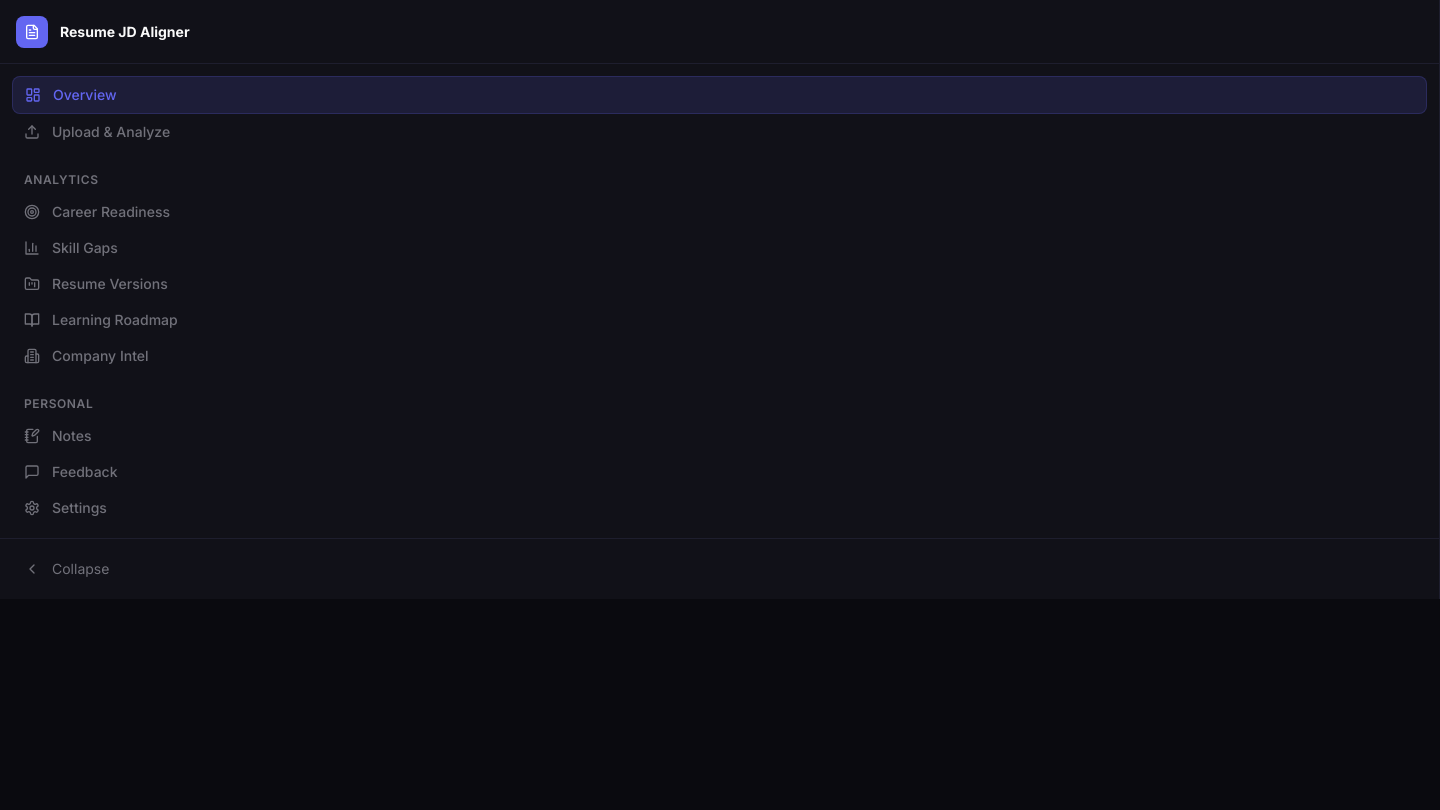
Scenario: Sidebar › expands again on a second click
Click the button "Collapse".
click(81, 568)  # box [12, 551, 1427, 587]
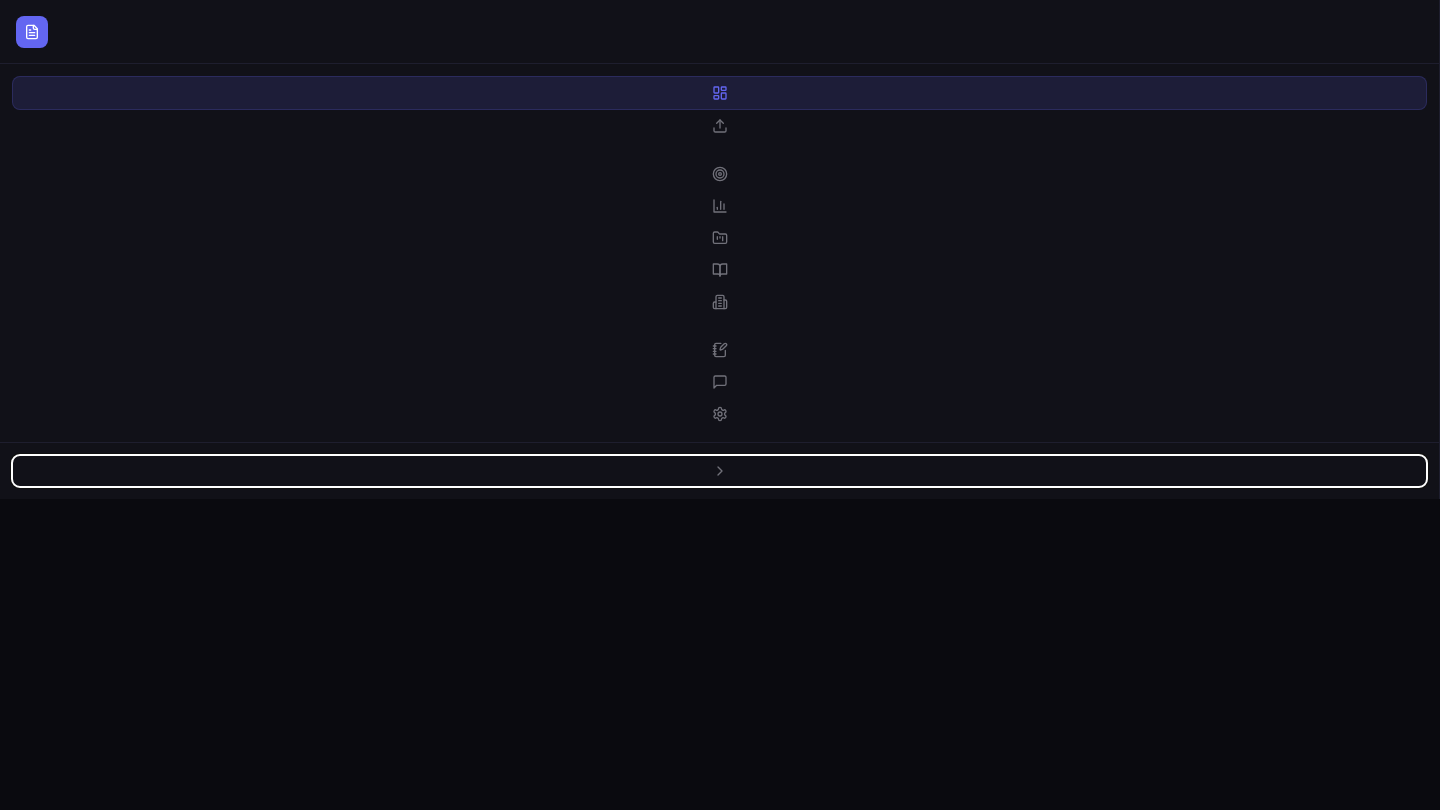
Click the button.
click(720, 471)  # box [12, 455, 1427, 487]
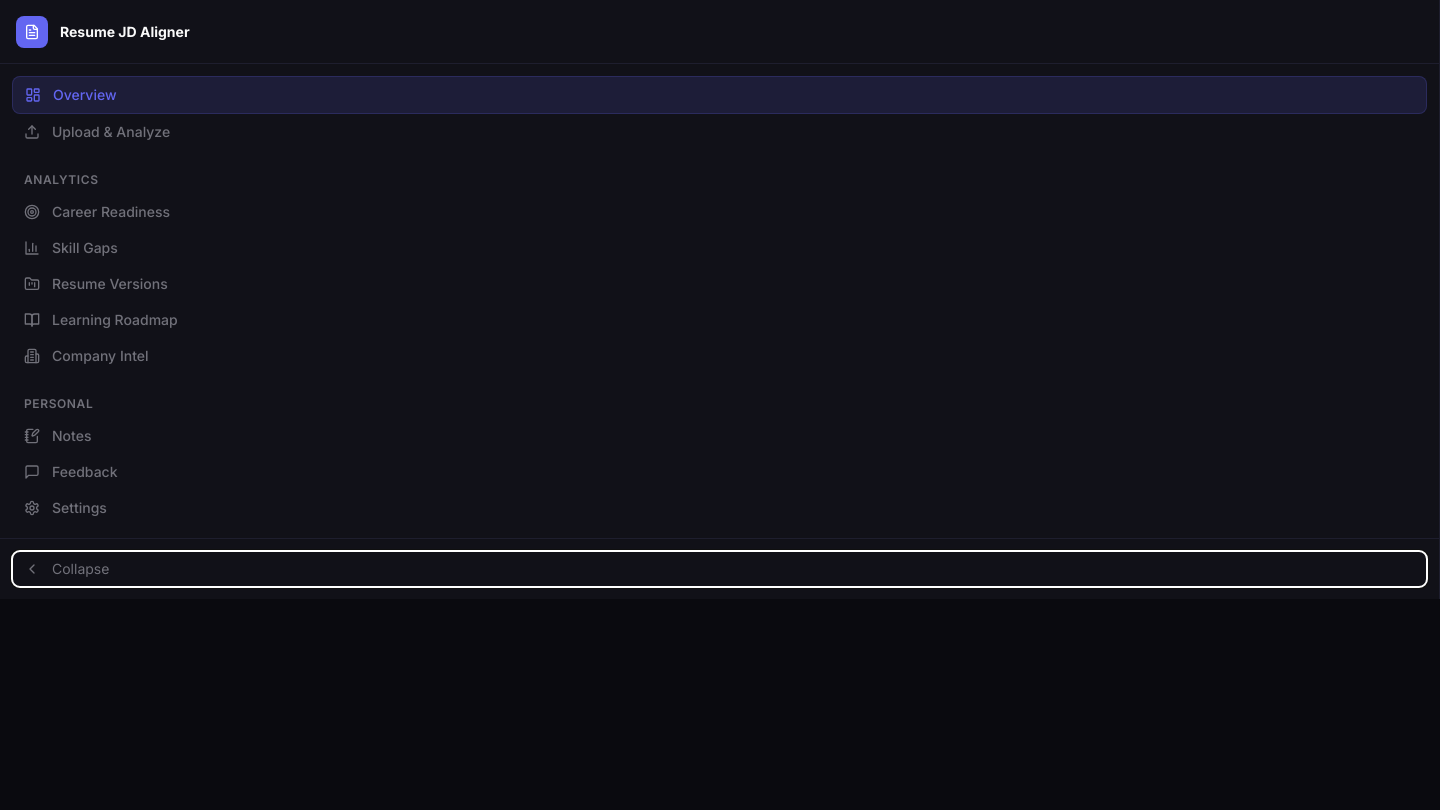
expect the text "Overview" is shown: met, box [53, 85, 116, 105]
